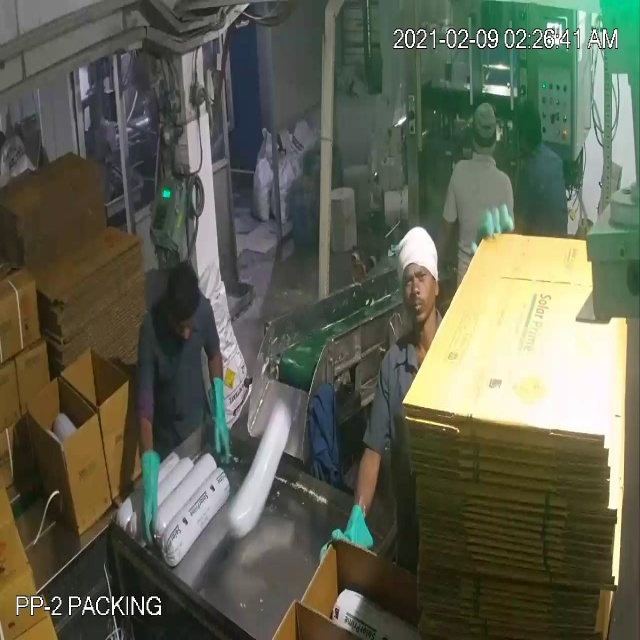Guantes: (311, 498, 384, 583), (194, 364, 244, 487), (133, 436, 169, 556)
